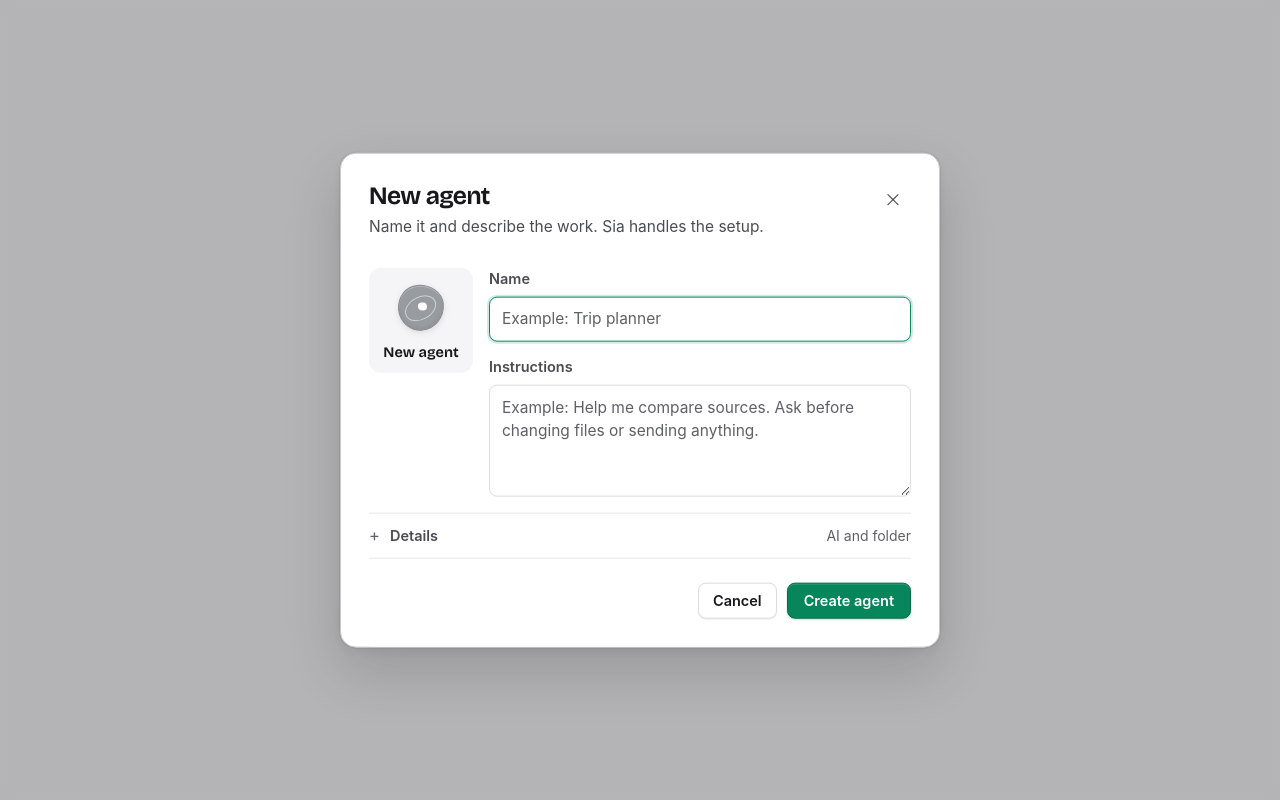
Test: agent dialog › requires a short instruction so a new agent has a clear role
The image size is (1280, 800).
In the field labelled "Name": [700, 319] box [489,297,911,341], type "Research partner"
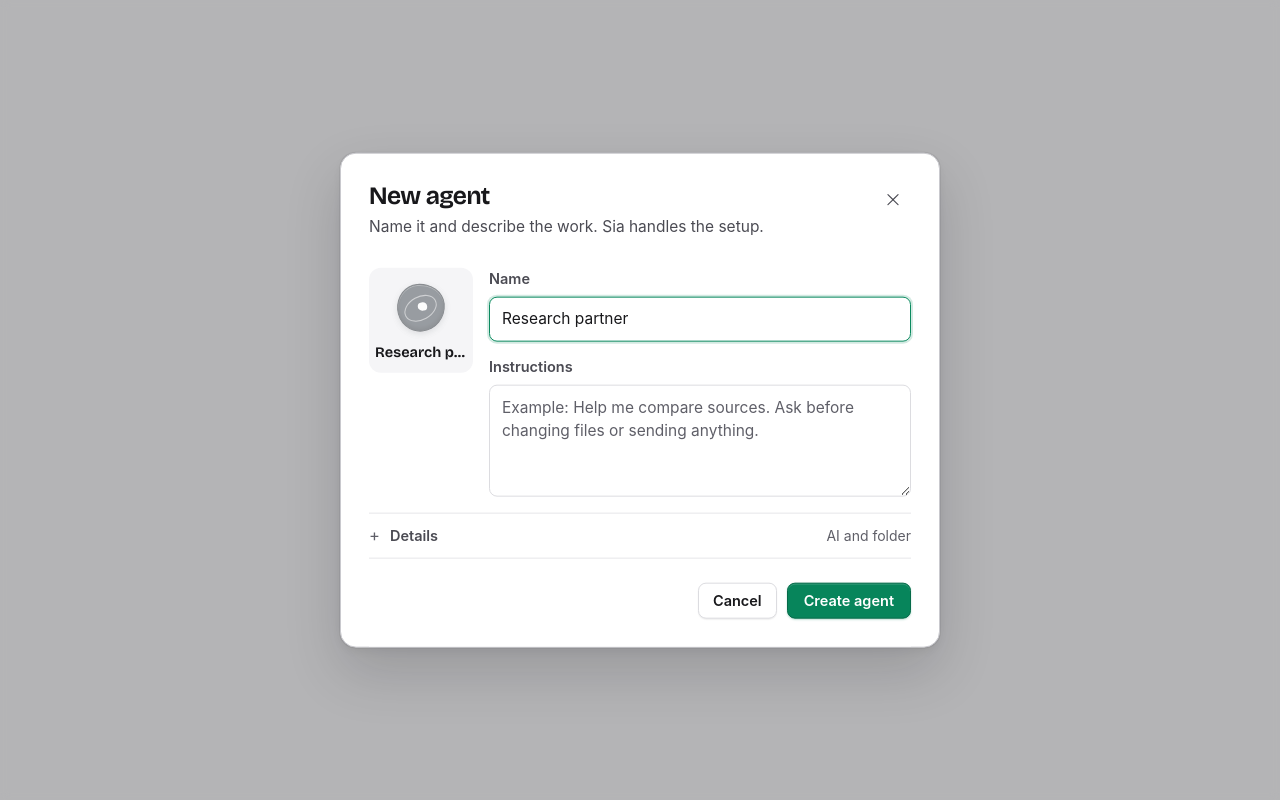
Click the button "Create agent": [849, 600] box [787,582,911,618]
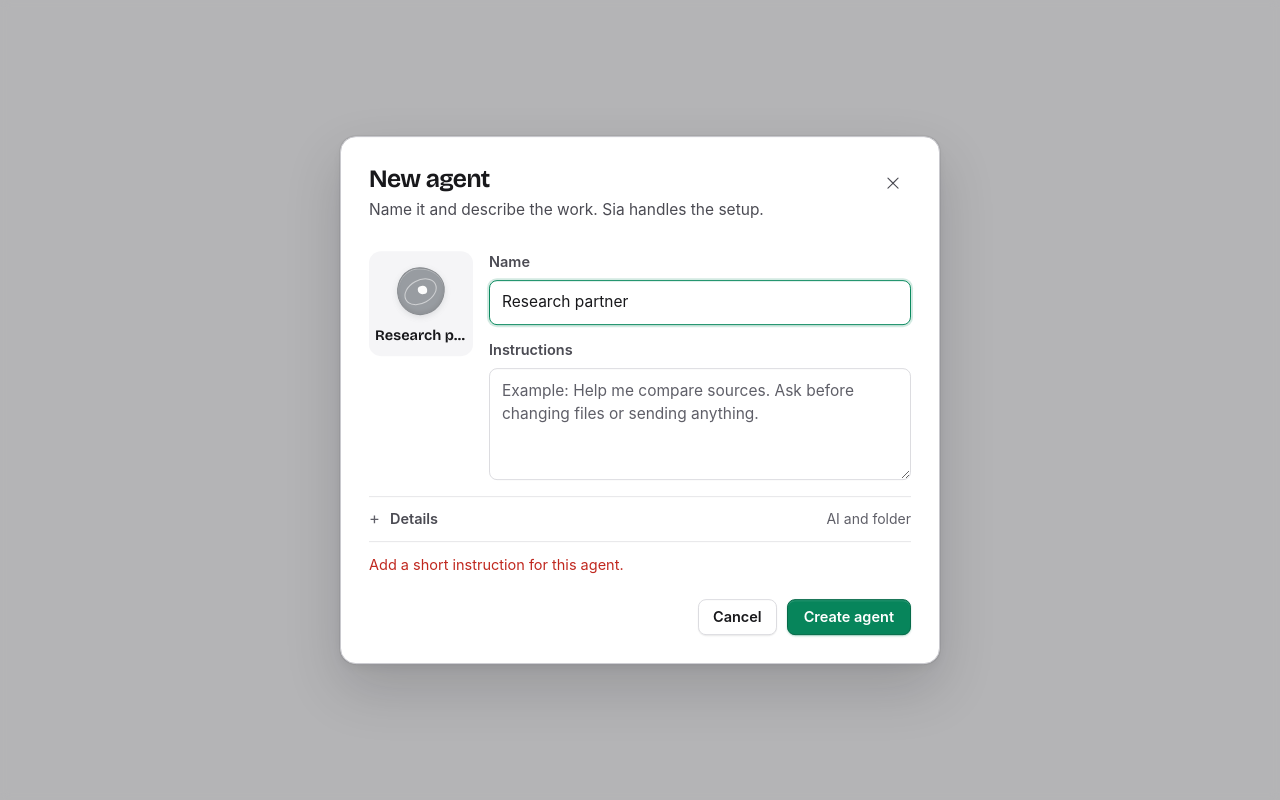
Now the text "Add a short instruction for this agent." is shown, box [369,556,624,573]
